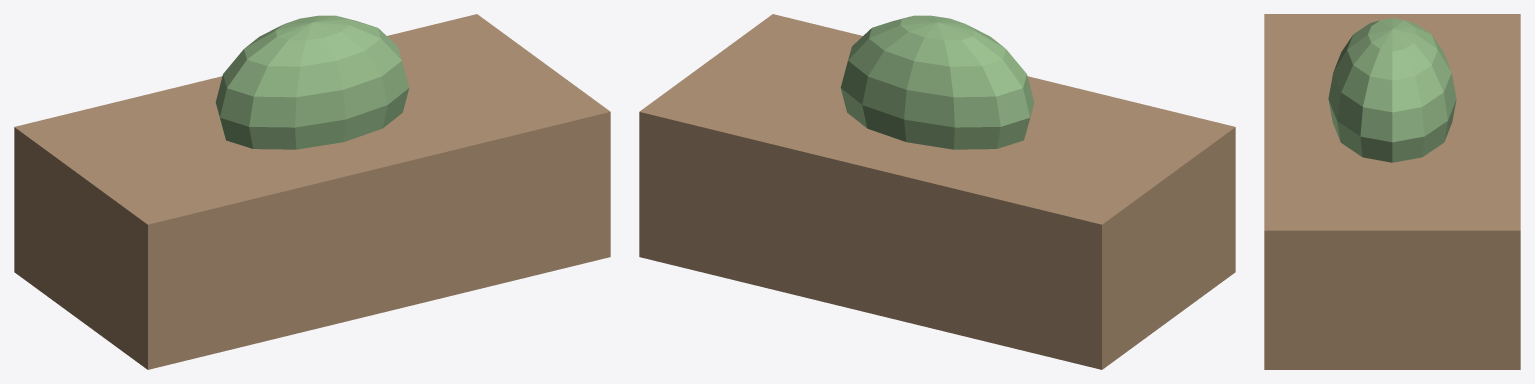
The model's file is sidewalk_planter.glb.
3 renders of one model, left to right at view 1: azimuth 30°, elevation 25°; view 2: azimuth 150°, elevation 25°; view 3: azimuth 270°, elevation 25°, orthographic. The views are drawn at different scales.
Parts seen in each view (by area): view 1: box, shrub; view 2: box, shrub; view 3: box, shrub.
Boxes of the visible parts, bbox=[...] form: box: bbox=[14, 14, 610, 369]; shrub: bbox=[215, 15, 409, 149]; box: bbox=[639, 14, 1235, 369]; shrub: bbox=[840, 15, 1034, 149]; box: bbox=[1264, 14, 1520, 369]; shrub: bbox=[1328, 18, 1456, 162].
Size of the model in its own units: 2 by 0.9996 by 1.
